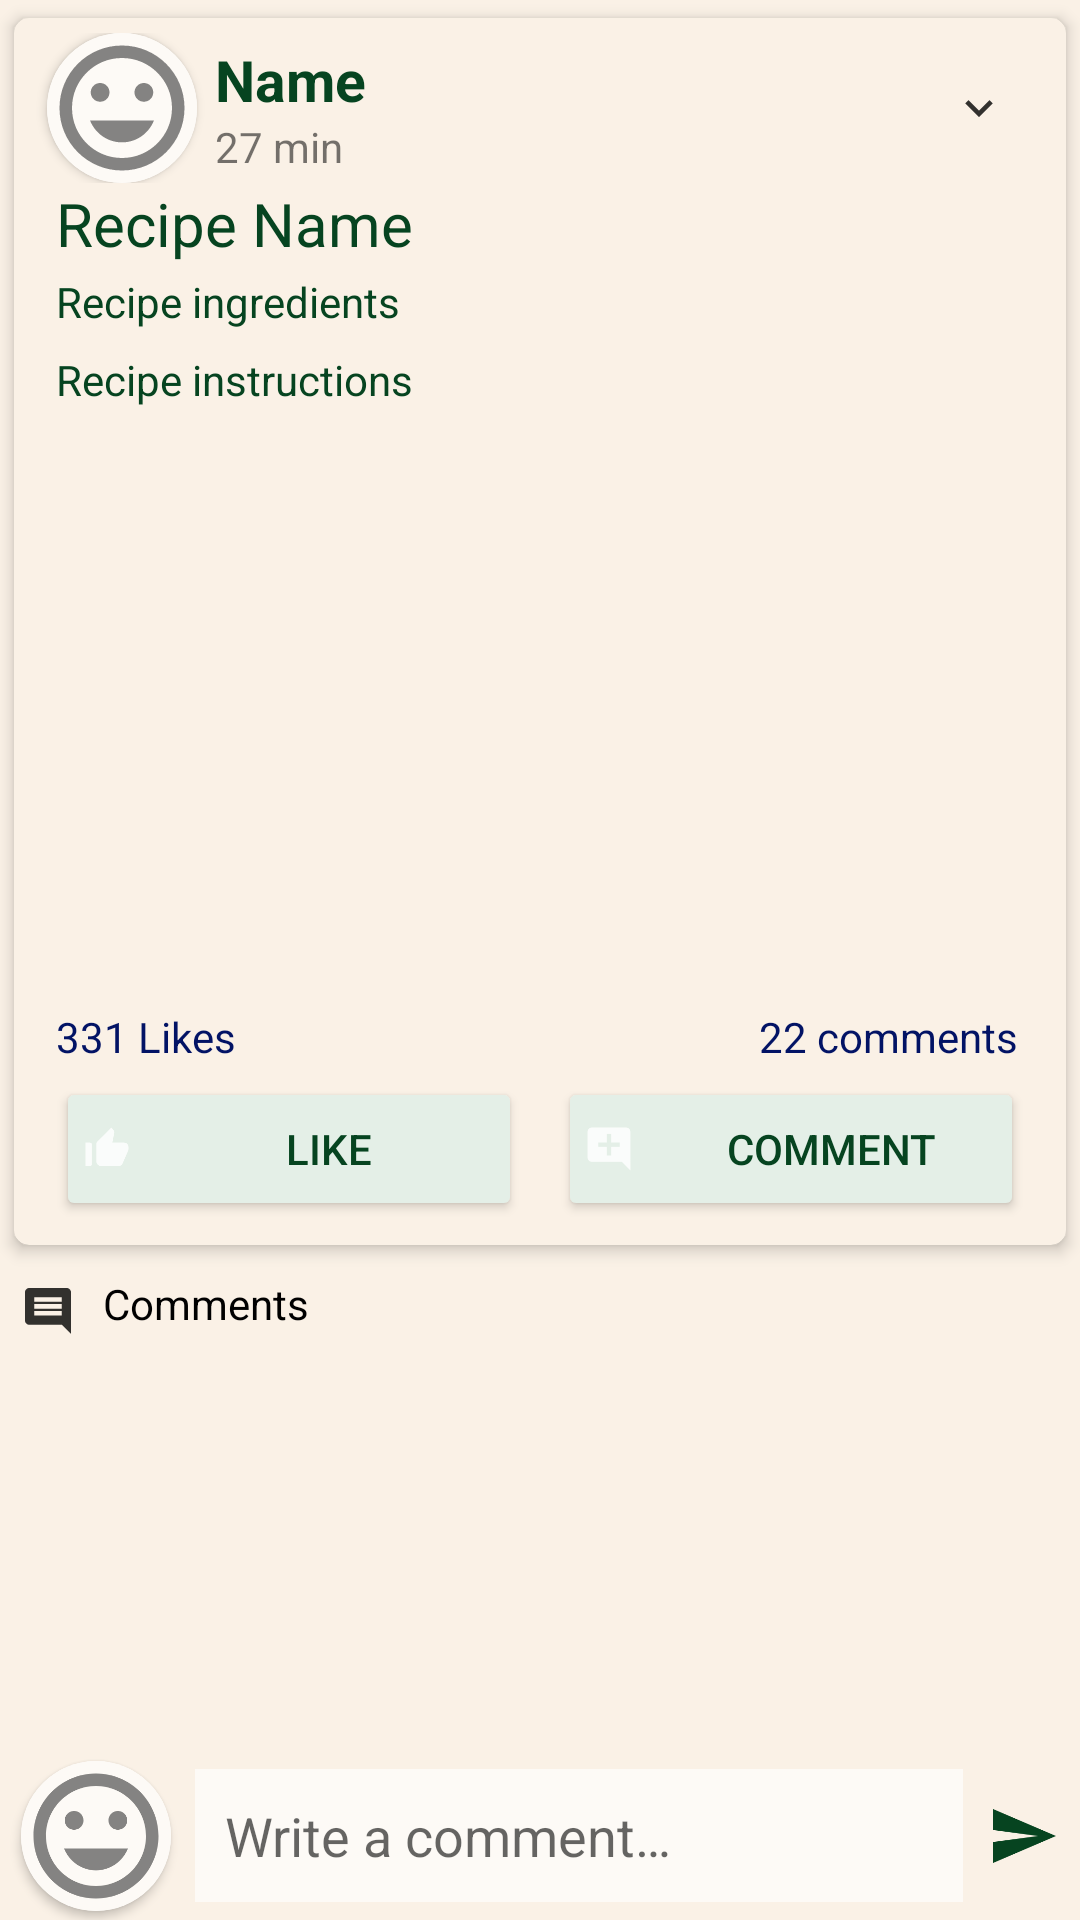

Screen size 1080x1920. Icon name, then its center in pixels as point (x, y):
more: point (979, 108)
profile: point (122, 108), point (96, 1836)
send: point (1024, 1836)
